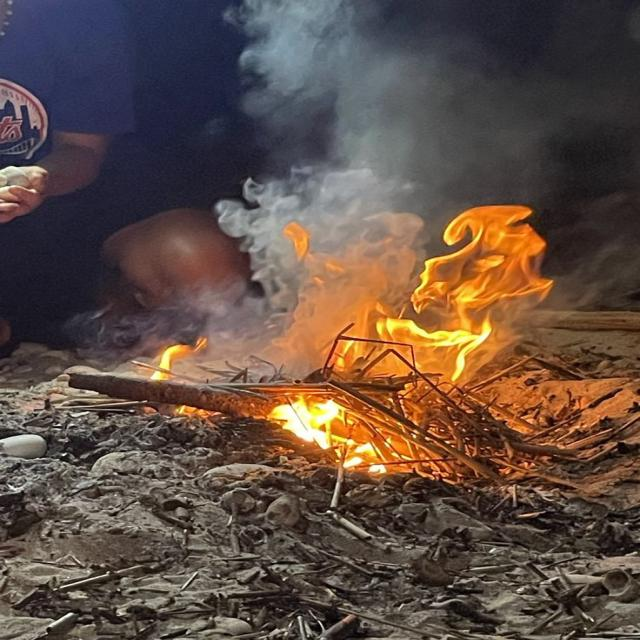fire: (374, 204, 555, 384), (271, 395, 348, 450), (148, 337, 207, 380)
